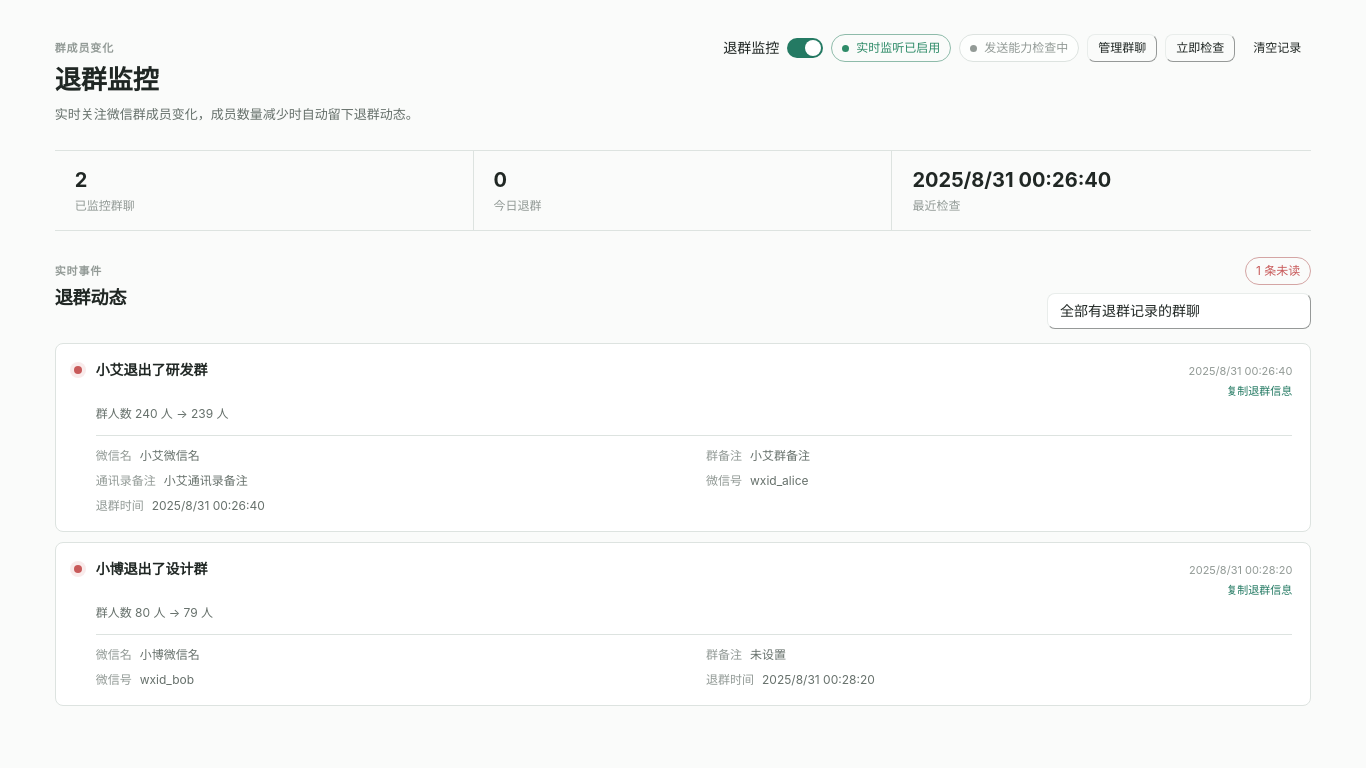
Test: GroupExitMonitorWorkspace › 管理群聊页不再提供通知模板与通知群聊配置
The image size is (1366, 768).
Click the button "管理群聊".
click(1122, 48)  # box [1087,34,1157,62]
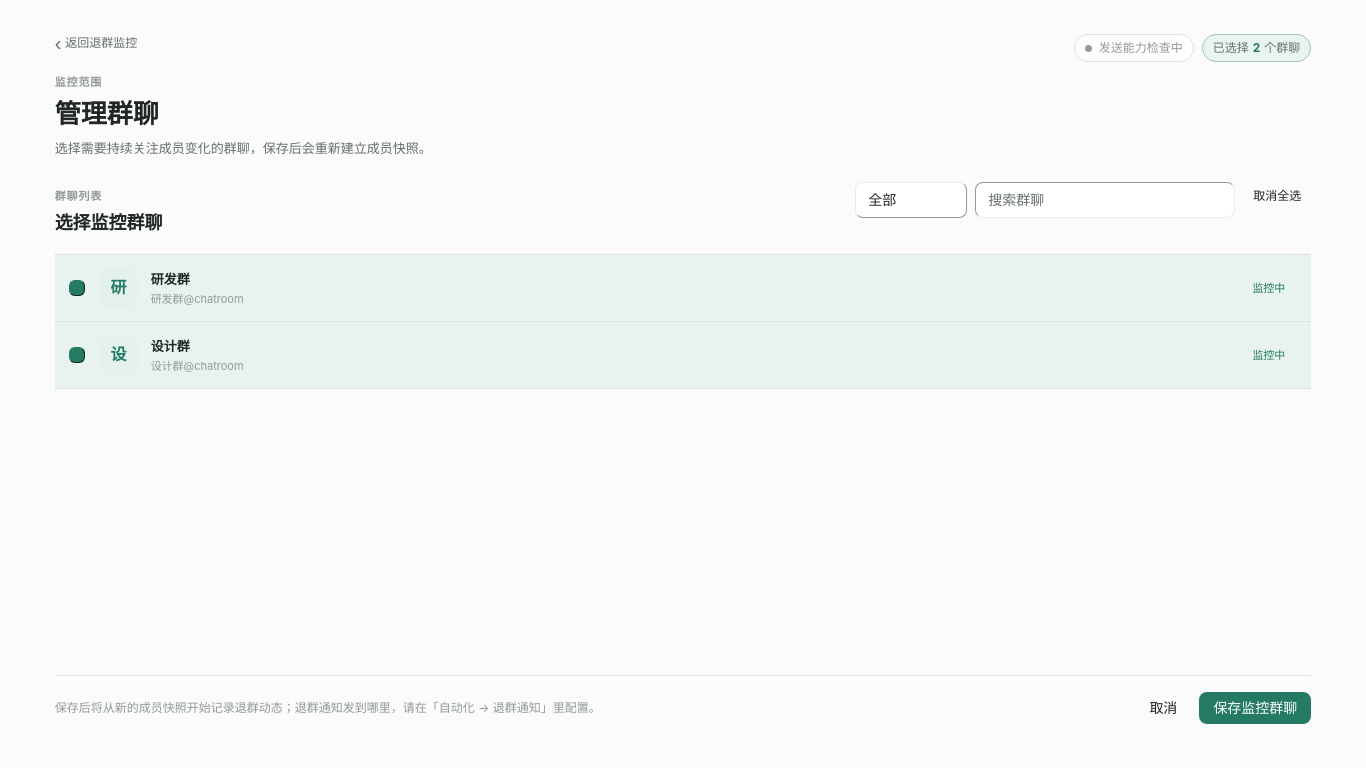
Expected: the checkbox named "监控研发群" is shown, [69,280,85,296]
